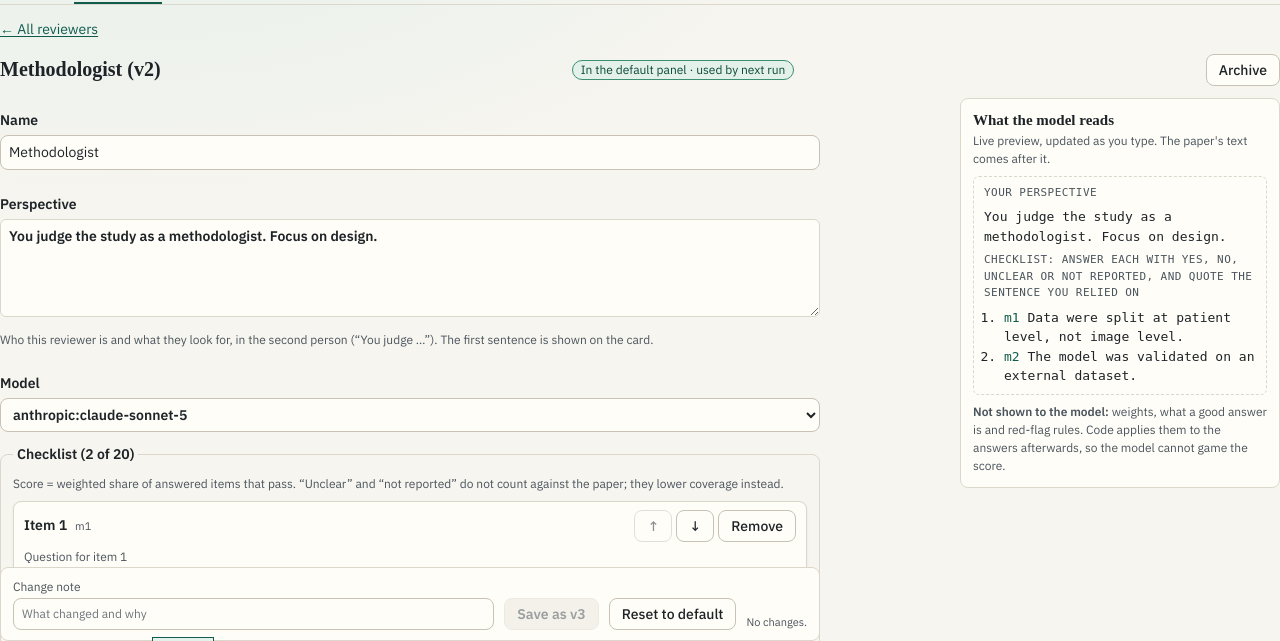
Scenario: Reviewer editor › shows a stale save and the in_default_panel refusal in words
The width and height of the screenshot is (1280, 641).
In the field labelled "Name": (410, 152) x1=0 y1=135 x2=820 y2=170, type "!"
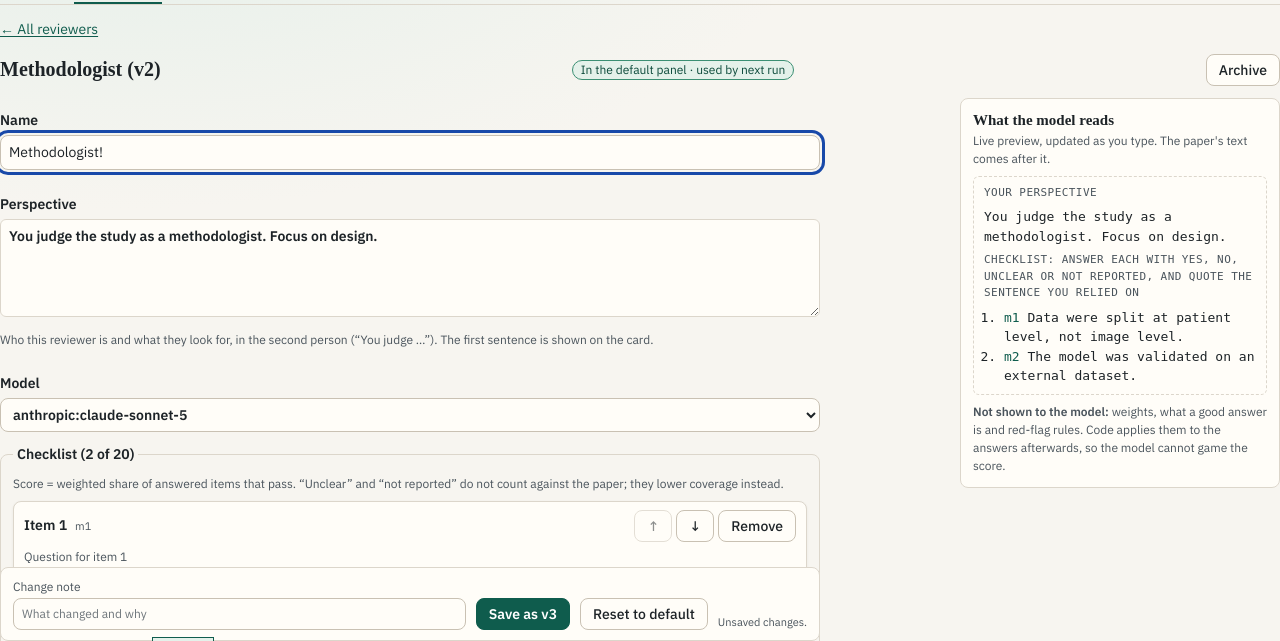
Click the button "Save as v3": click(523, 614) x1=476 y1=598 x2=570 y2=630
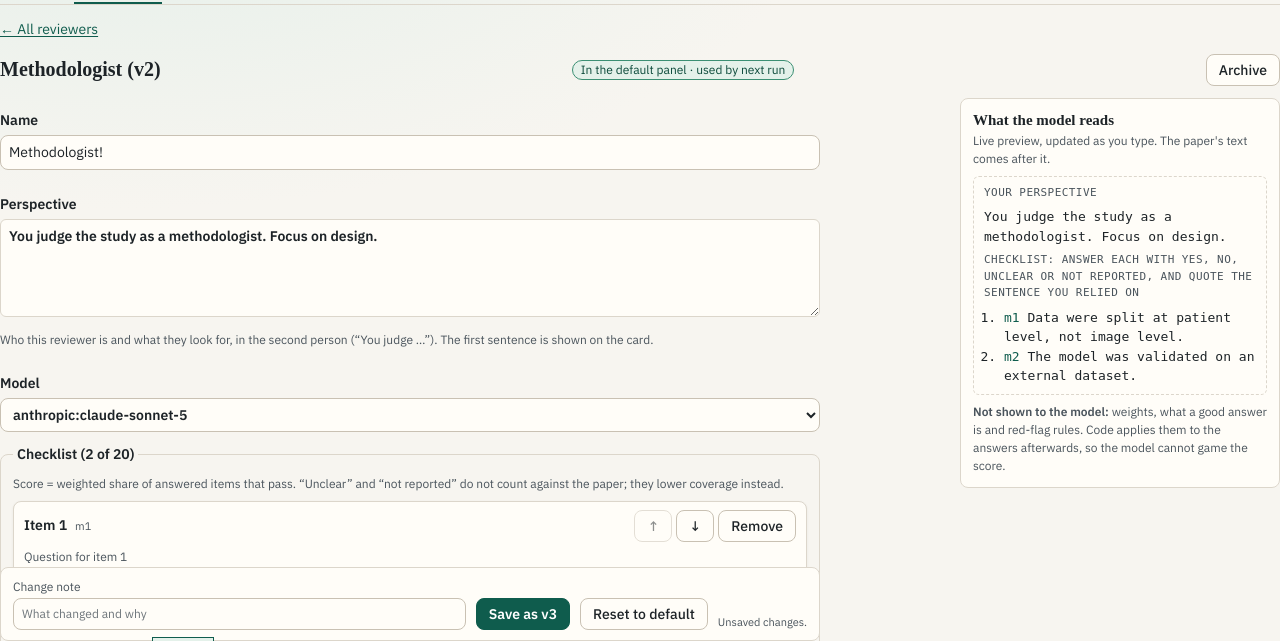
Click the button "Archive": click(1243, 70) x1=1206 y1=54 x2=1279 y2=86
(page scrolled)
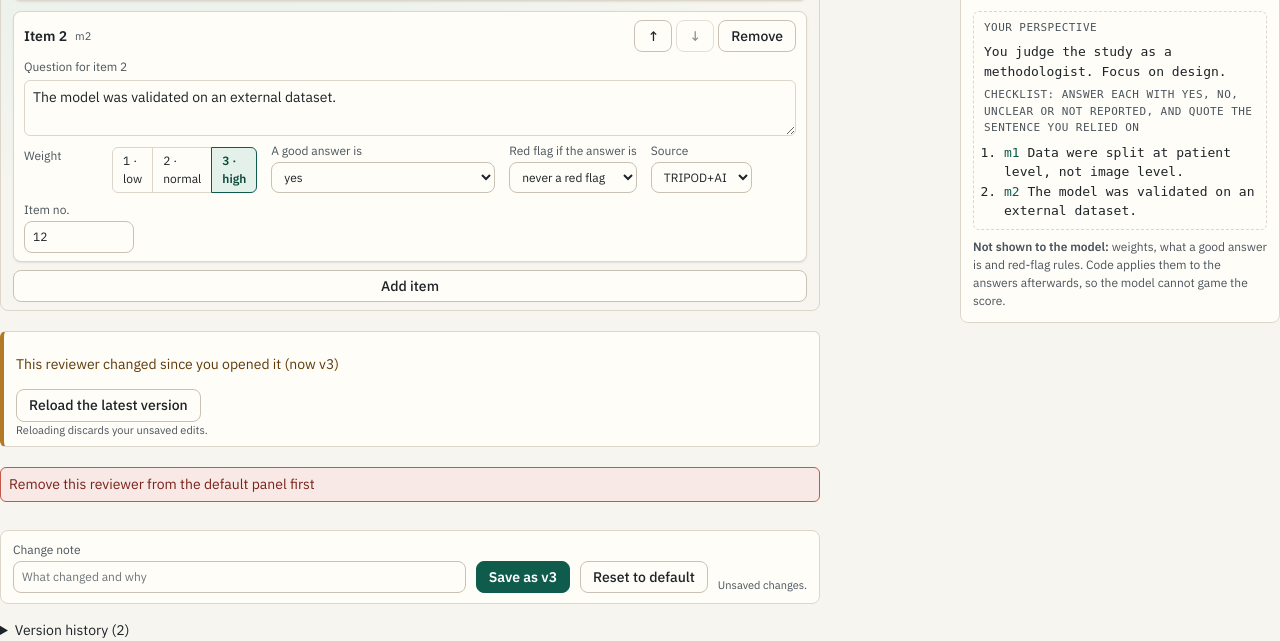
Check: the text "Remove this reviewer from the default panel first" is shown, box x1=0 y1=467 x2=820 y2=502
